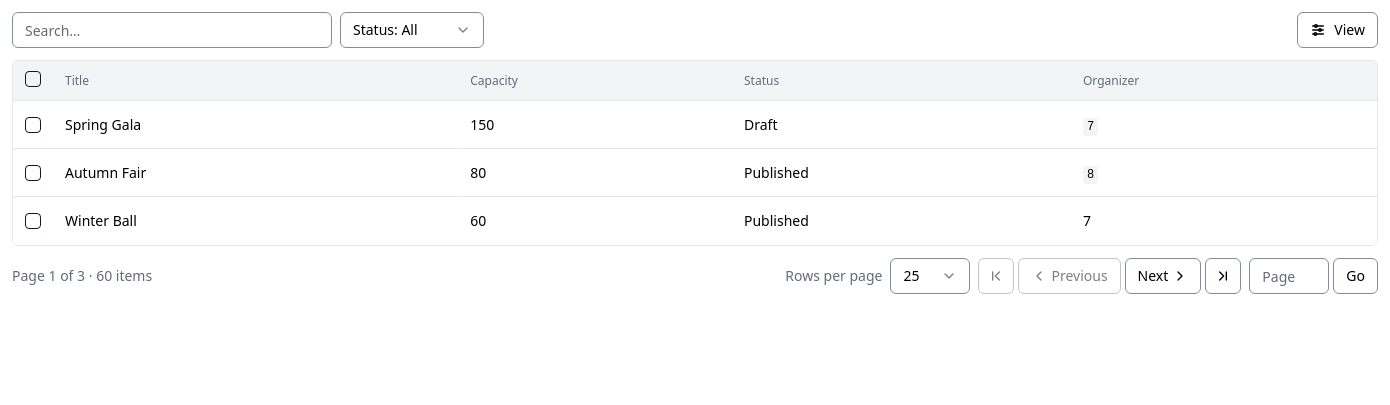
Test: bulk actions › a rejected action is reported in plain words and keeps the selection
The width and height of the screenshot is (1390, 405).
Click the checkbox named "Select Spring Gala": x=33, y=124 top-left (25, 116), bottom-right (41, 132)
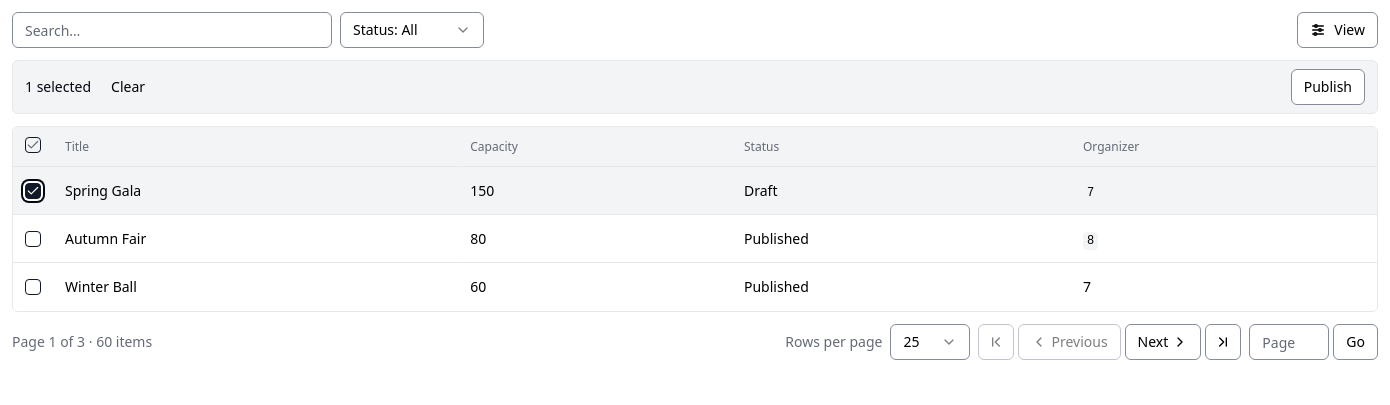
Click the checkbox named "Select Autumn Fair": x=33, y=238 top-left (25, 230), bottom-right (41, 246)
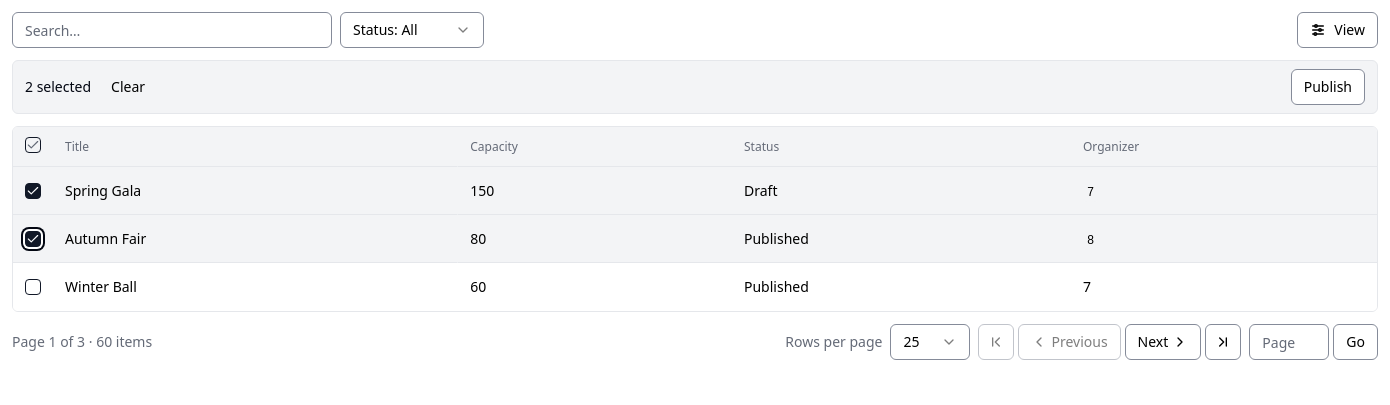
Click the button "Publish": x=1328, y=87 top-left (1291, 69), bottom-right (1365, 105)
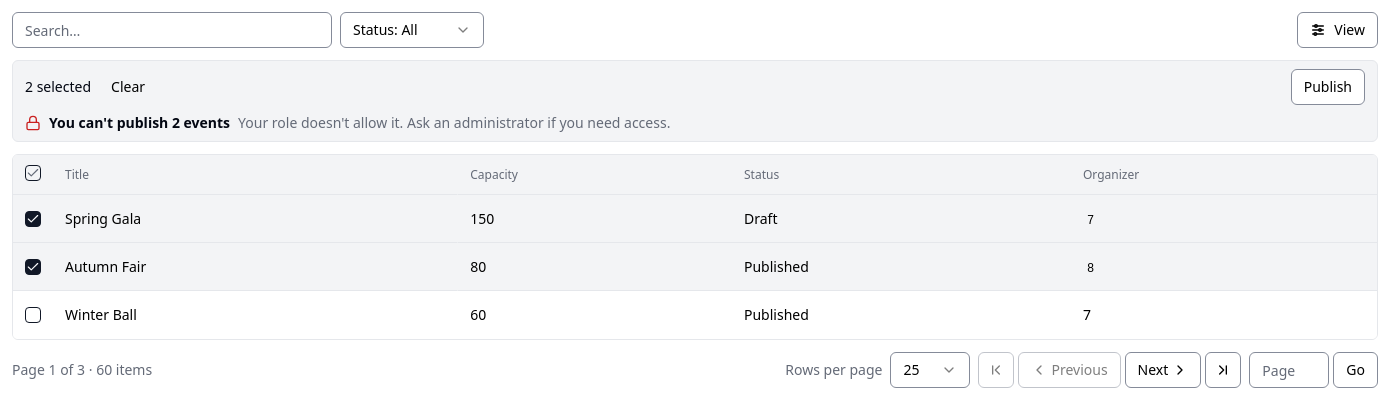
Expected: the text "2 selected" is shown, top-left (25, 77), bottom-right (91, 97)
Expected: the message shows "You can't publish 2 events", top-left (49, 113), bottom-right (230, 132)
